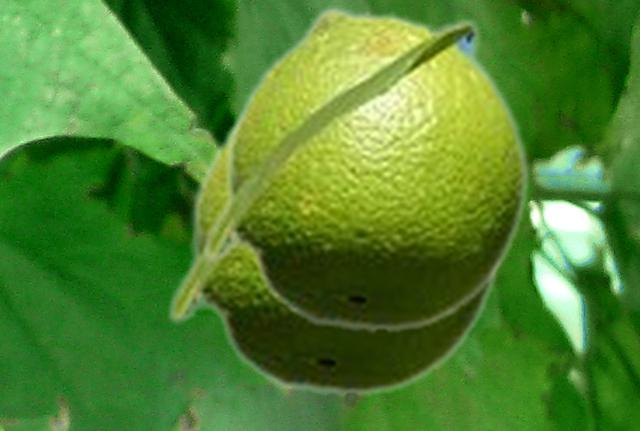dalandan: (199, 5, 531, 334), (164, 107, 505, 398)
